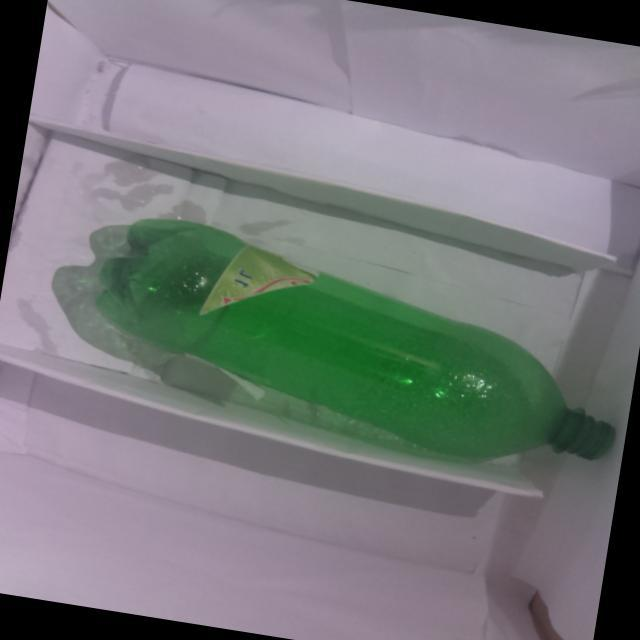good: (76, 200, 640, 497)
